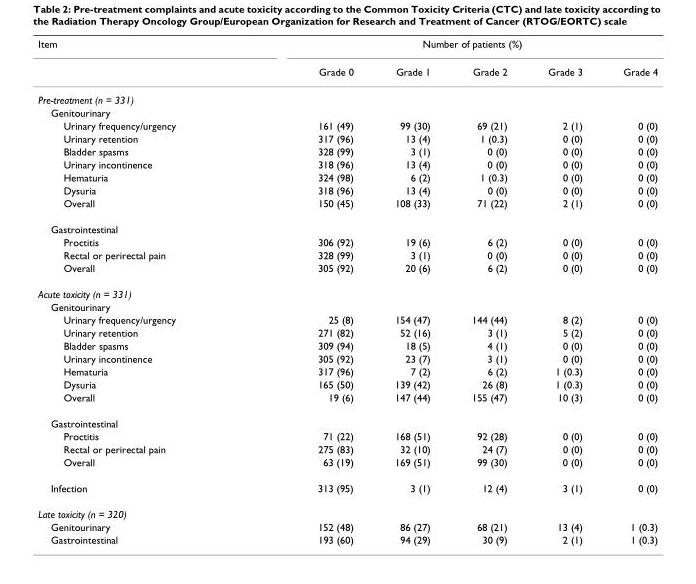table: (37, 37, 657, 545)
table column: (37, 37, 246, 545), (246, 37, 373, 545), (373, 37, 450, 545), (450, 37, 527, 545), (527, 37, 602, 545), (602, 37, 657, 545)
table column header: (37, 37, 657, 85)
table projected row header: (37, 85, 657, 105), (37, 215, 657, 235), (37, 280, 657, 300), (37, 500, 657, 520), (37, 410, 657, 429), (37, 105, 657, 118), (37, 300, 657, 312)
table row: (37, 57, 657, 85), (37, 474, 657, 500), (37, 37, 657, 57), (37, 85, 657, 105), (37, 215, 657, 235), (37, 280, 657, 300), (37, 390, 657, 410), (37, 500, 657, 520), (37, 196, 657, 215), (37, 261, 657, 280), (37, 410, 657, 429), (37, 455, 657, 474), (37, 105, 657, 118), (37, 118, 657, 131), (37, 131, 657, 144), (37, 144, 657, 157), (37, 157, 657, 170), (37, 170, 657, 183), (37, 183, 657, 196), (37, 235, 657, 248), (37, 248, 657, 261), (37, 312, 657, 325), (37, 325, 657, 338), (37, 338, 657, 351), (37, 351, 657, 364), (37, 364, 657, 377), (37, 377, 657, 390), (37, 429, 657, 442), (37, 442, 657, 455), (37, 532, 657, 545), (37, 300, 657, 312), (37, 520, 657, 532)
table spanning cell: (37, 37, 246, 85), (246, 37, 657, 57)
